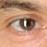eye: (20, 19, 33, 30)
